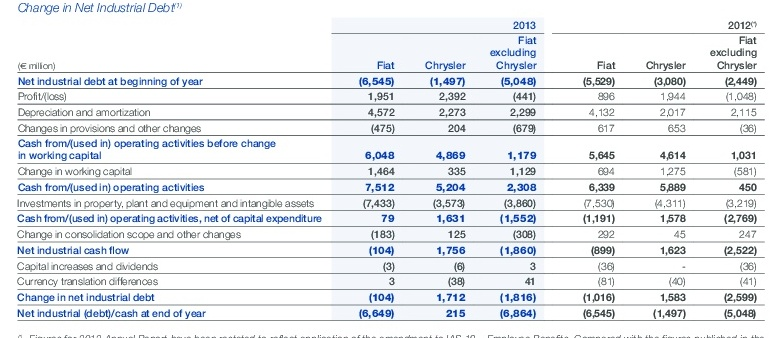table: (0, 0, 780, 338)
